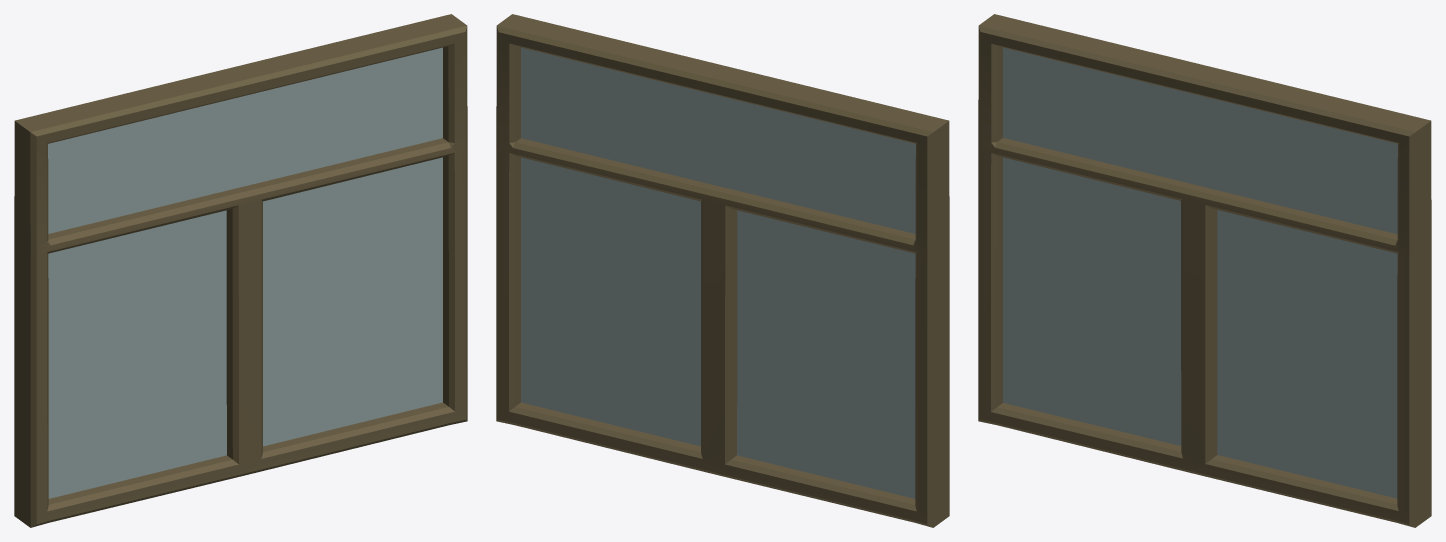
Rendered from Window.fbx.
3 views of the same model, side by side, from view 1: azimuth 30°, elevation 25°; view 2: azimuth 150°, elevation 25°; view 3: azimuth 330°, elevation 25° (orthographic).
Parts seen in each view (by area): view 1: glass, frame; view 2: glass, frame; view 3: glass, frame.
Boxes of the visible parts, box(x1,y1,x2,y2) form: glass: box(48, 47, 442, 498); frame: box(14, 14, 467, 527); glass: box(521, 47, 915, 498); frame: box(496, 14, 949, 527); glass: box(1003, 47, 1397, 498); frame: box(978, 14, 1431, 527).
Bounding box in the file's own units: 19.53 × 16.89 × 1.6.
